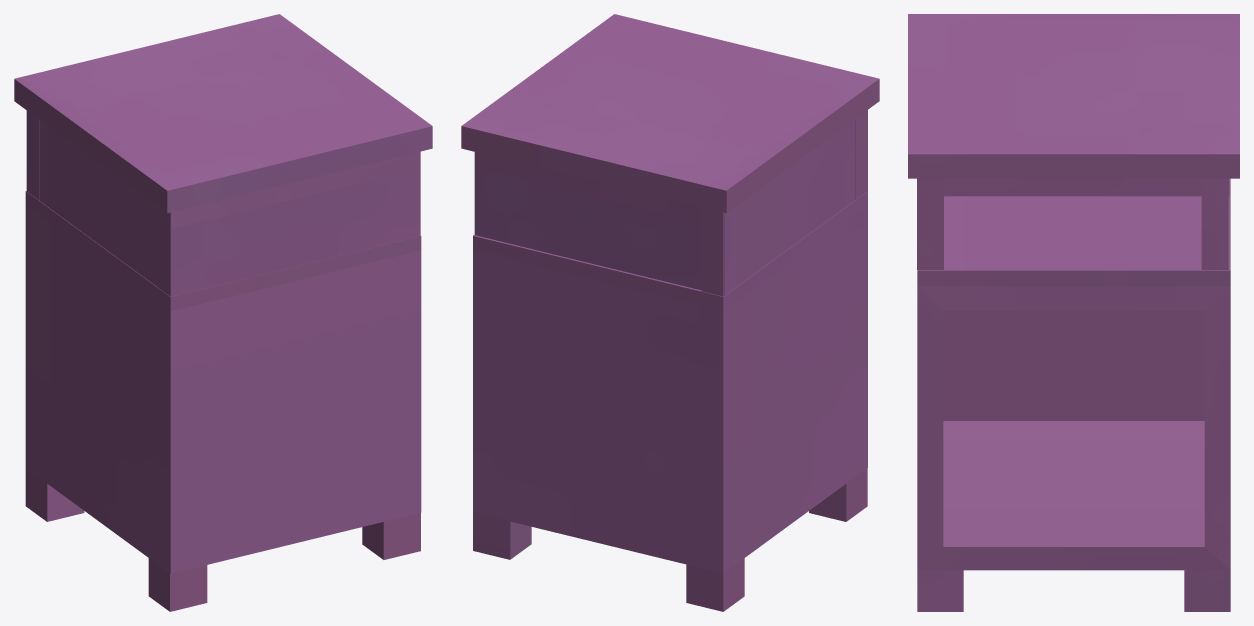
The model's file is Mesa.obj.
The picture shows the model from 3 angles, left to right: view 1: azimuth 30°, elevation 25°; view 2: azimuth 150°, elevation 25°; view 3: azimuth 270°, elevation 25°; orthographic projection. The views are drawn at different scales.
Parts seen in each view (by area): view 1: Cubo; view 2: Cubo; view 3: Cubo.
Boxes of the visible parts, x1,y1,x2,y2 form: Cubo: [14, 14, 432, 611]; Cubo: [461, 14, 879, 611]; Cubo: [908, 14, 1239, 611].
Size of the model in its own units: 2.24 by 3.44 by 2.24.
Materials: 1 (1 with a texture image).
